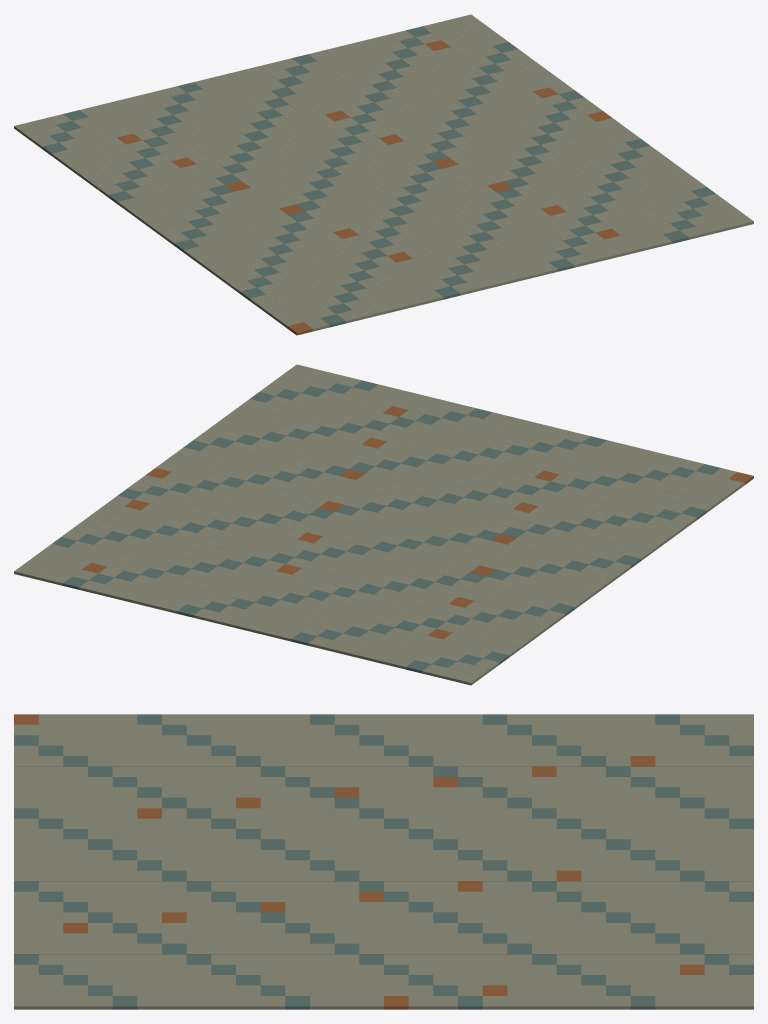
The model's file is hall_floor.obj.
3 renders of one model, top to bottom at view 1: azimuth 30°, elevation 25°; view 2: azimuth 150°, elevation 25°; view 3: azimuth 270°, elevation 25°, orthographic. The views are drawn at different scales.
Visible parts, largest first — view 1: floor_tiles; view 2: floor_tiles; view 3: floor_tiles.
Boxes of the visible parts, x1=… form: floor_tiles: x1=14, y1=14, x2=753, y2=335; floor_tiles: x1=14, y1=364, x2=753, y2=685; floor_tiles: x1=14, y1=714, x2=753, y2=1009.
Bounding box in the file's own units: 28 × 0.15 × 30.
